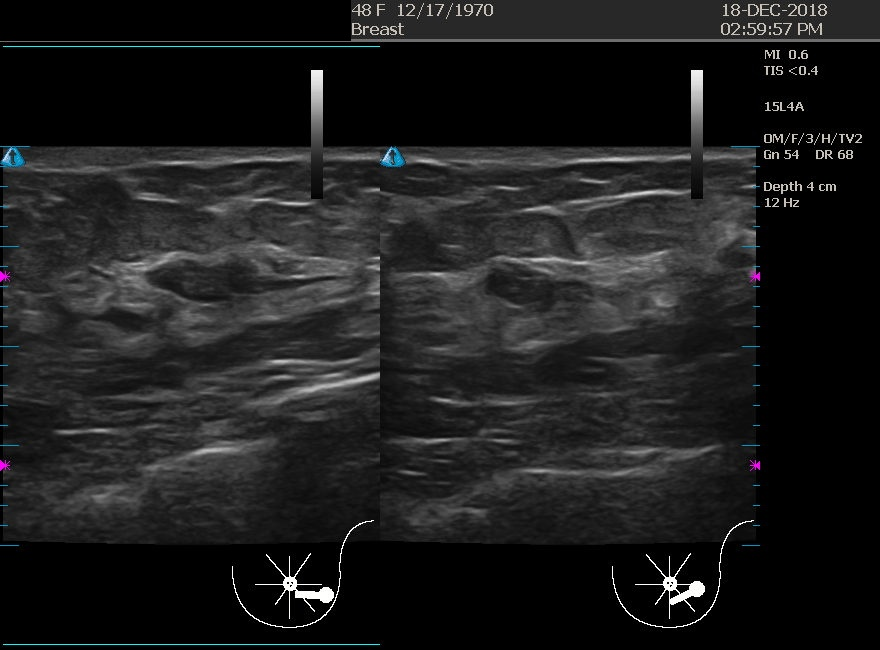BIRADS_4: (421, 195, 613, 387), (113, 156, 305, 348)
